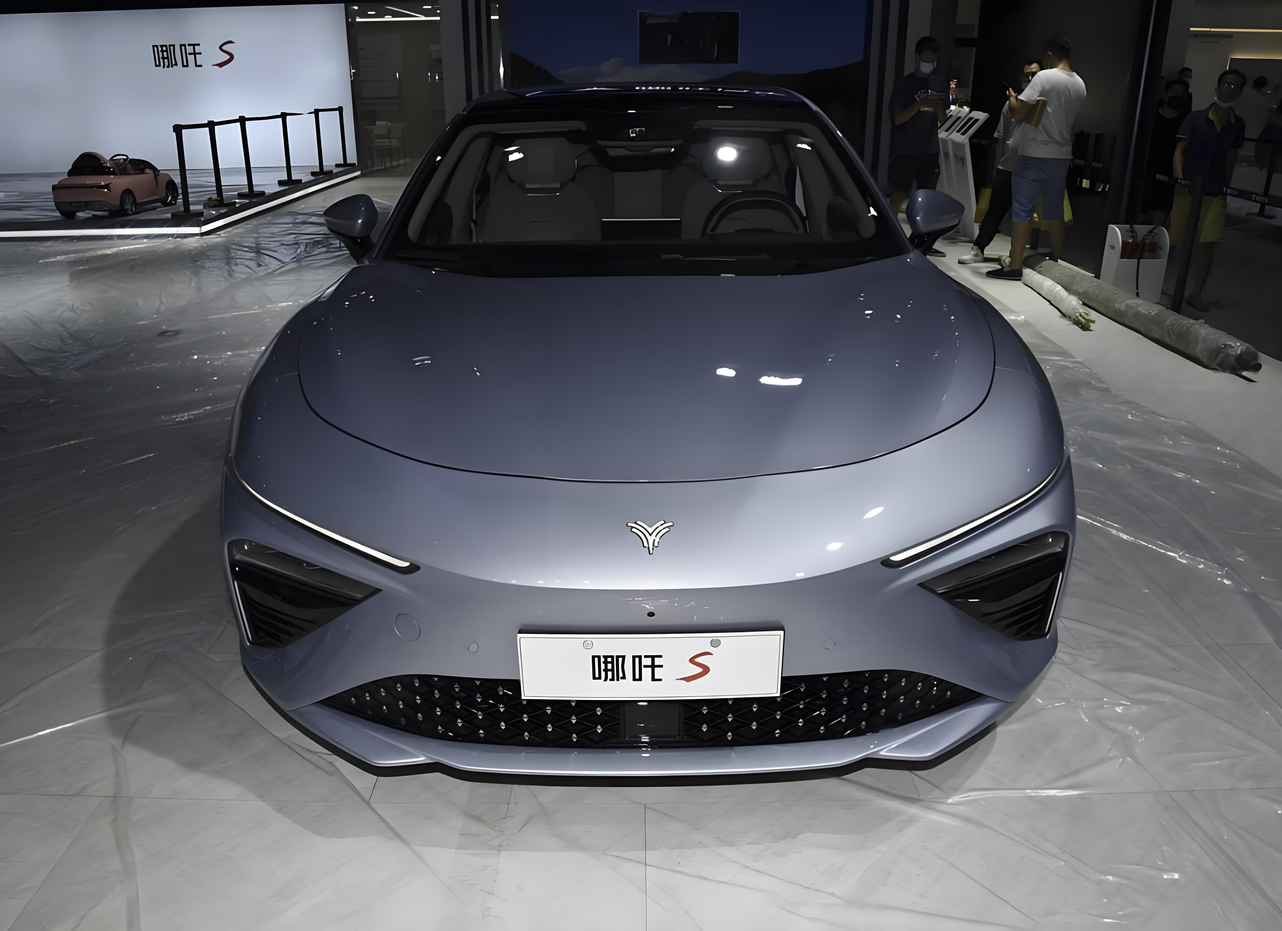NETA: (625, 519, 676, 556)
